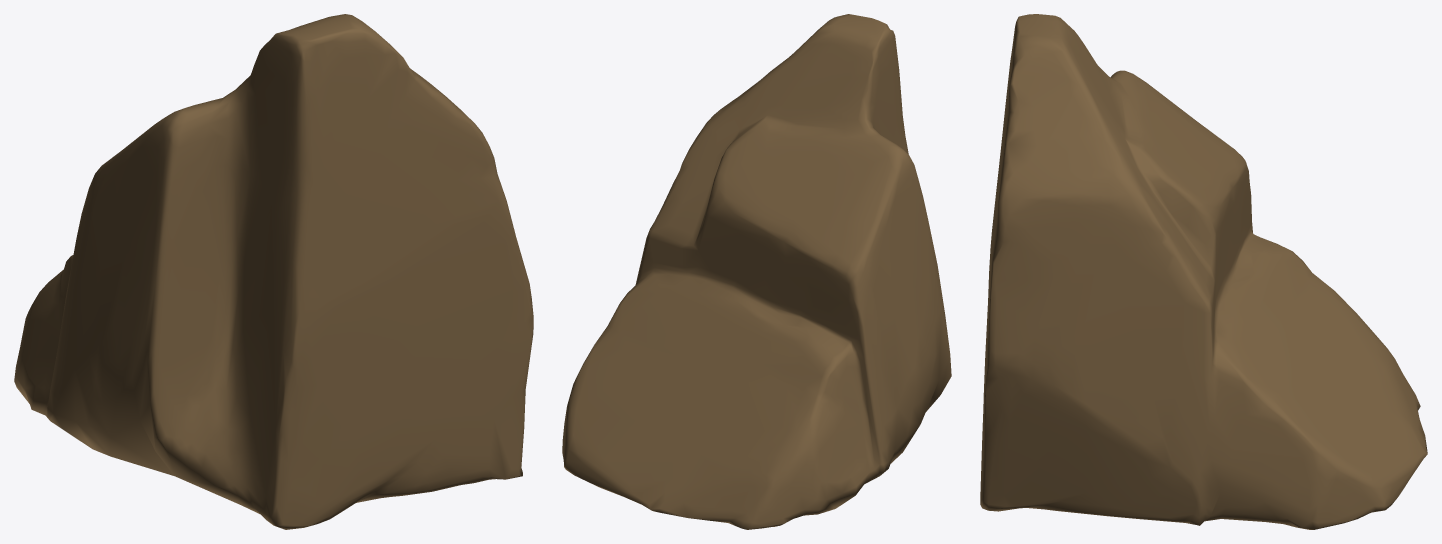
3 views of the same model, side by side, from view 1: azimuth 30°, elevation 25°; view 2: azimuth 150°, elevation 25°; view 3: azimuth 270°, elevation 25° (orthographic). The views are drawn at different scales.
Visible parts, largest first — view 1: SM_Cliff_Bottom_Rock_04_LOD0; view 2: SM_Cliff_Bottom_Rock_04_LOD0; view 3: SM_Cliff_Bottom_Rock_04_LOD0.
Boxes of the visible parts, x1=… form: SM_Cliff_Bottom_Rock_04_LOD0: x1=14, y1=14, x2=533, y2=529; SM_Cliff_Bottom_Rock_04_LOD0: x1=562, y1=14, x2=951, y2=529; SM_Cliff_Bottom_Rock_04_LOD0: x1=980, y1=14, x2=1427, y2=529.
Size of the model in its own units: 2.14 by 2.57 by 2.52.
